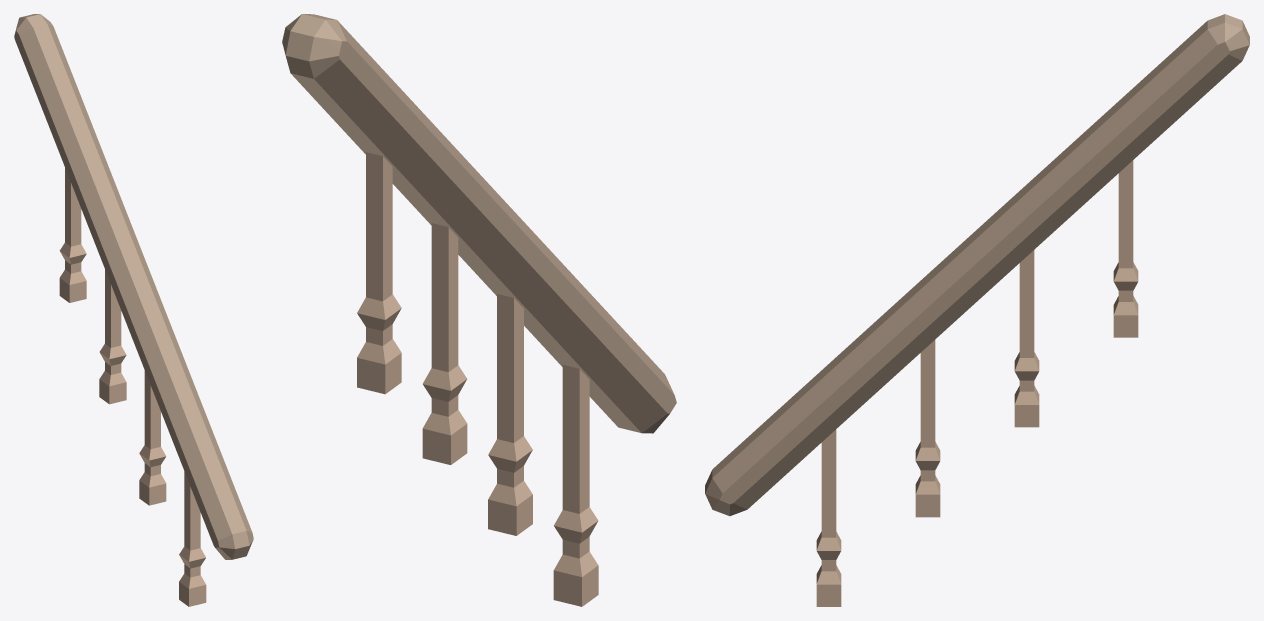
File: Structure_Stairs_Railing_Rising_Straight.glb
3 views of the same model, side by side, from view 1: azimuth 30°, elevation 25°; view 2: azimuth 150°, elevation 25°; view 3: azimuth 270°, elevation 25° (orthographic). The views are drawn at different scales.
Visible parts, largest first — view 1: Structure_Stairs_Railing_Rising_Straight; view 2: Structure_Stairs_Railing_Rising_Straight; view 3: Structure_Stairs_Railing_Rising_Straight.
Part boxes in pixels (x1,y1,x2,y2): Structure_Stairs_Railing_Rising_Straight: (14, 14, 253, 606); Structure_Stairs_Railing_Rising_Straight: (282, 14, 676, 606); Structure_Stairs_Railing_Rising_Straight: (705, 14, 1249, 606).
Bounding box in the file's own units: 0.1 × 1.3 × 1.1.
